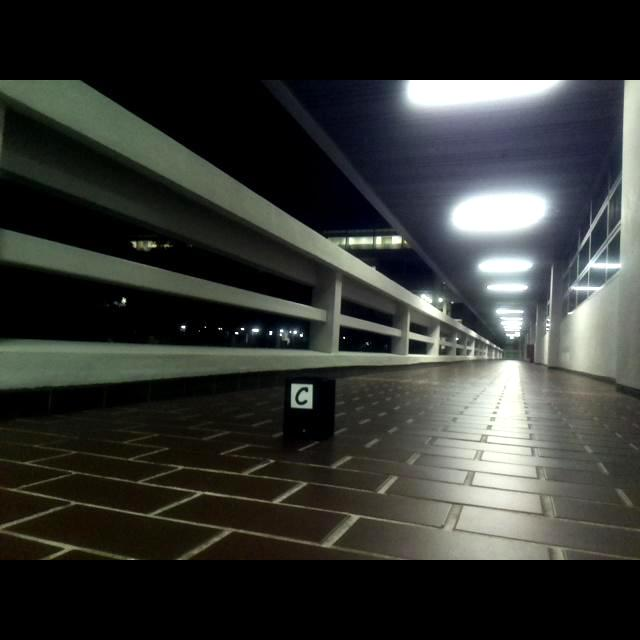C: (295, 387, 309, 406)
